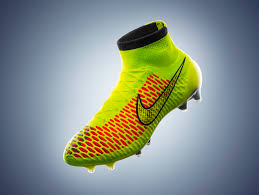nike: (136, 56, 185, 126)
